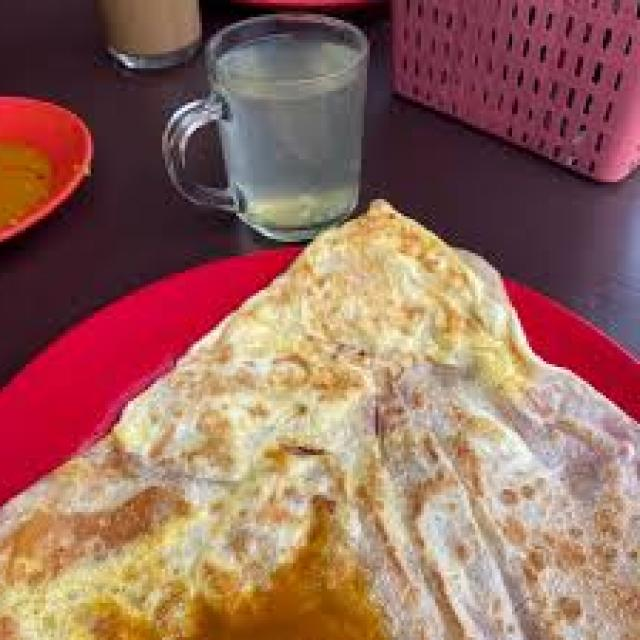Paratha: (0, 196, 640, 640)
